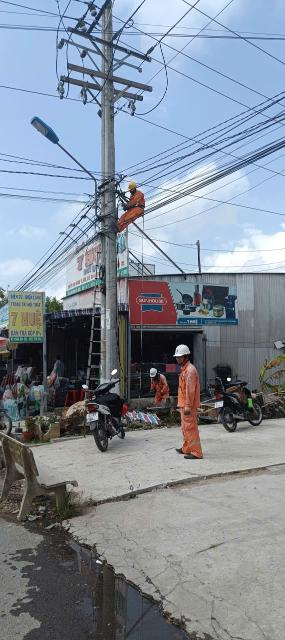gloves: (182, 410, 193, 415), (121, 201, 127, 210), (158, 392, 163, 396)
harness: (128, 203, 147, 209)
helmet: (173, 343, 193, 360), (126, 178, 140, 193), (147, 366, 160, 379)
shoes: (183, 451, 205, 462), (174, 444, 187, 453)
